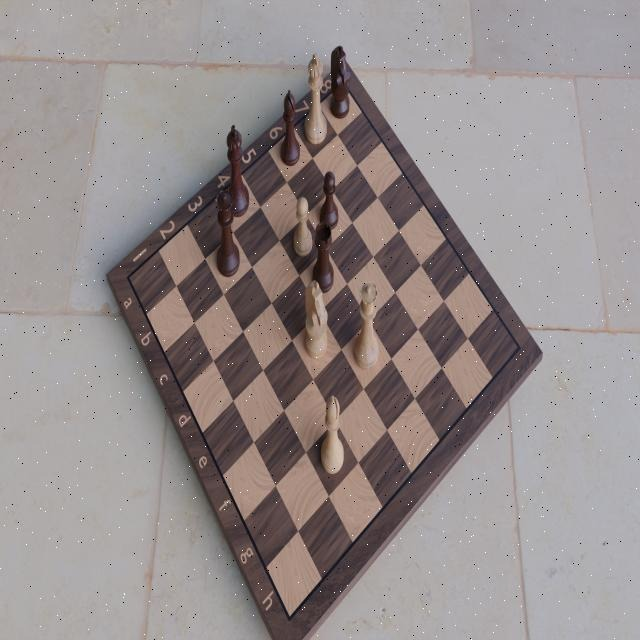black-bishop: (279, 87, 303, 173)
black-king: (222, 121, 252, 219)
black-knight: (327, 45, 352, 123)
black-pawn: (318, 169, 341, 232)
black-queen: (213, 189, 241, 281)
black-rook: (310, 221, 334, 293)
white-bishop: (318, 392, 346, 476)
white-king: (302, 52, 329, 148)
white-knight: (303, 275, 331, 362)
white-pawn: (290, 192, 314, 260)
white-queen: (353, 277, 381, 375)
